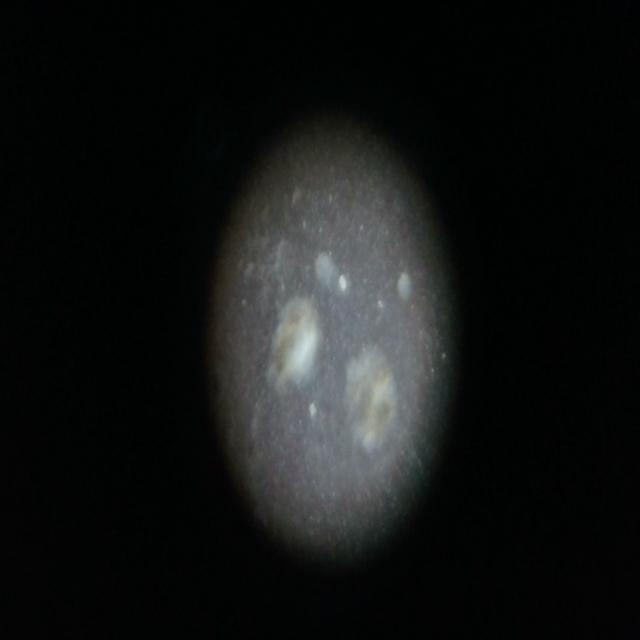alexandrium: (345, 335, 402, 468), (265, 286, 326, 406)
